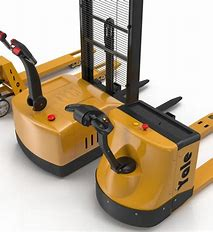Pallet Jack: (1, 1, 182, 171), (73, 100, 213, 227)
